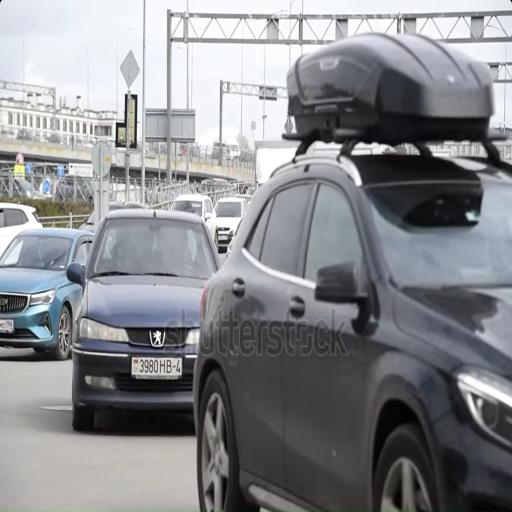License plates: (132, 357, 182, 379), (0, 320, 14, 333), (219, 235, 228, 240)
